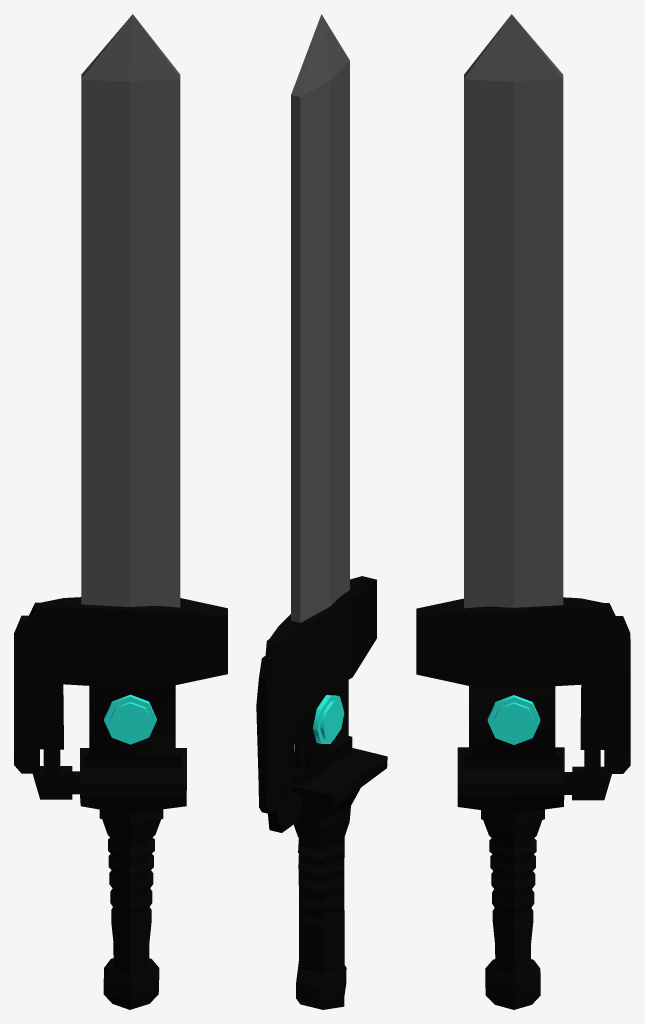
File: Sword.obj
3 renders of one model, left to right at view 1: azimuth 90°, elevation 25°; view 2: azimuth 150°, elevation 25°; view 3: azimuth 270°, elevation 25°, orthographic.
Parts seen in each view (by area): view 1: Dagger.001_Cube.003; view 2: Dagger.001_Cube.003; view 3: Dagger.001_Cube.003.
Part boxes in pixels (x1,y1,x2,y2): Dagger.001_Cube.003: (14, 14, 227, 1009); Dagger.001_Cube.003: (256, 14, 387, 1009); Dagger.001_Cube.003: (416, 14, 630, 1009).
Size of the model in its own units: 0.0788 by 0.9902 by 0.195.
